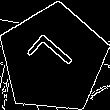L_SE: (25, 31, 82, 87)
